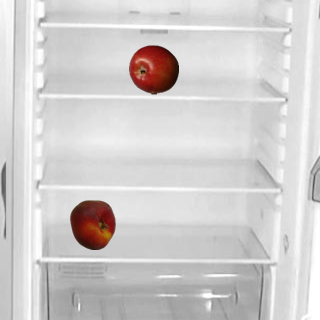Apple Braeburn: (128, 44, 178, 94)
Nectarine Flat: (67, 199, 117, 249)
